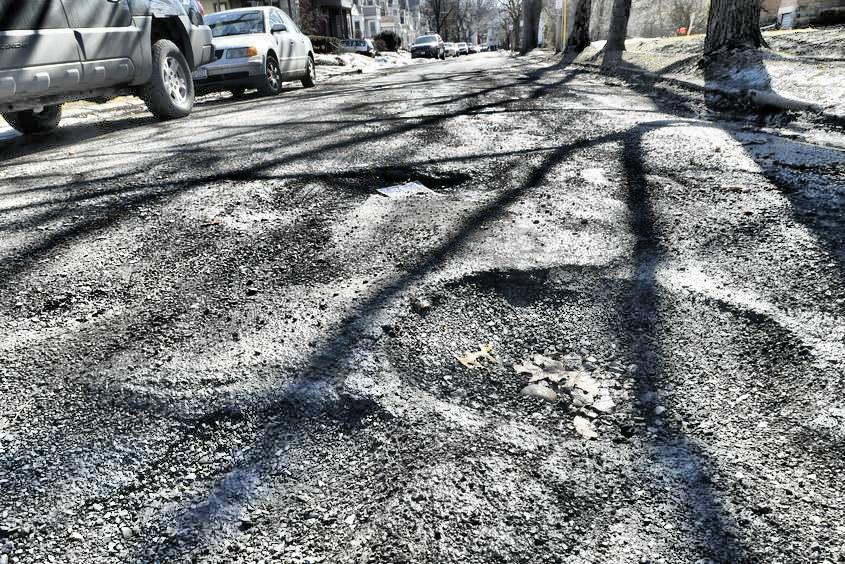pothole: (384, 260, 823, 441), (338, 163, 461, 203)
